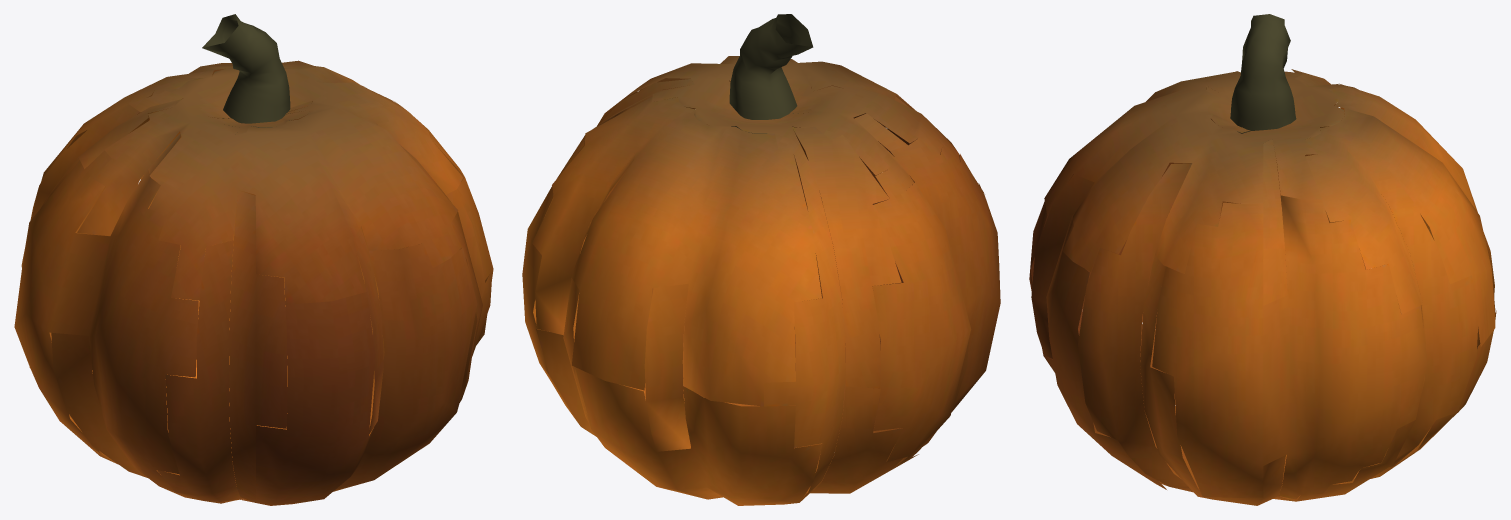
The model's file is pumpkin_b.glb.
The picture shows the model from 3 angles, left to right: view 1: azimuth 30°, elevation 25°; view 2: azimuth 150°, elevation 25°; view 3: azimuth 270°, elevation 25°; orthographic projection. The views are drawn at different scales.
Parts seen in each view (by area): view 1: pumpkin_b, pumpkin_b_stem; view 2: pumpkin_b, pumpkin_b_stem; view 3: pumpkin_b, pumpkin_b_stem.
Boxes of the visible parts, bbox=[...] form: pumpkin_b: bbox=[14, 60, 493, 505]; pumpkin_b_stem: bbox=[202, 14, 290, 127]; pumpkin_b: bbox=[522, 56, 1000, 505]; pumpkin_b_stem: bbox=[729, 14, 813, 133]; pumpkin_b: bbox=[1029, 69, 1496, 505]; pumpkin_b_stem: bbox=[1230, 14, 1296, 133].
Bounding box in the file's own units: 0.8348 × 0.8777 × 0.833.
Materials: 2 (1 with a texture image).
